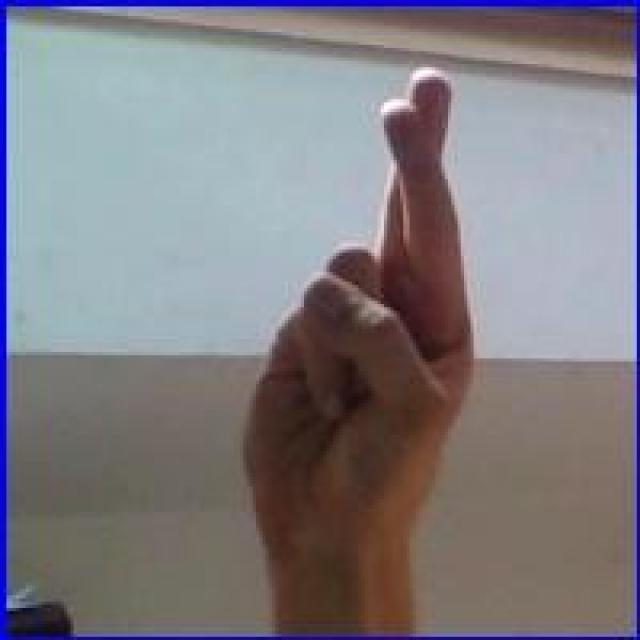R: (238, 62, 482, 578)
